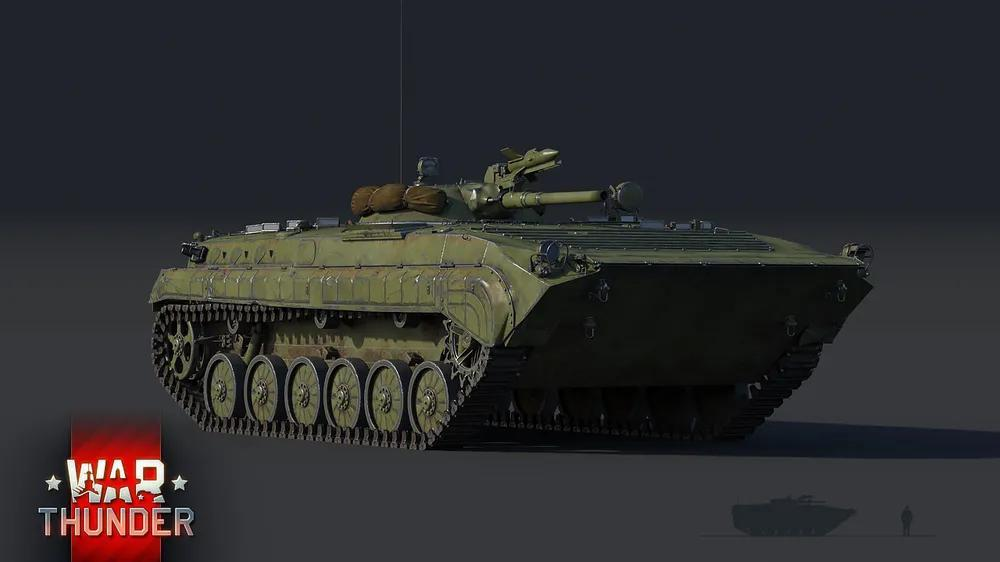MIL_IFV: (152, 148, 876, 435)
